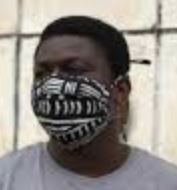with_facemask: (29, 77, 116, 142)
